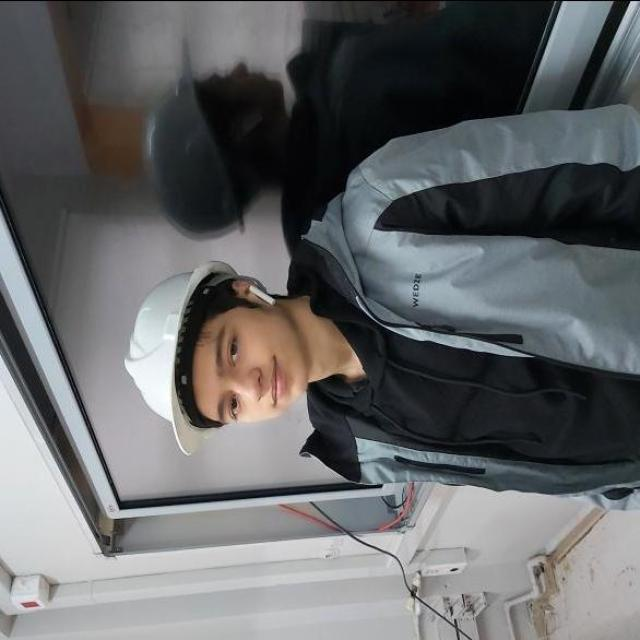white helmet: (98, 255, 232, 464)
